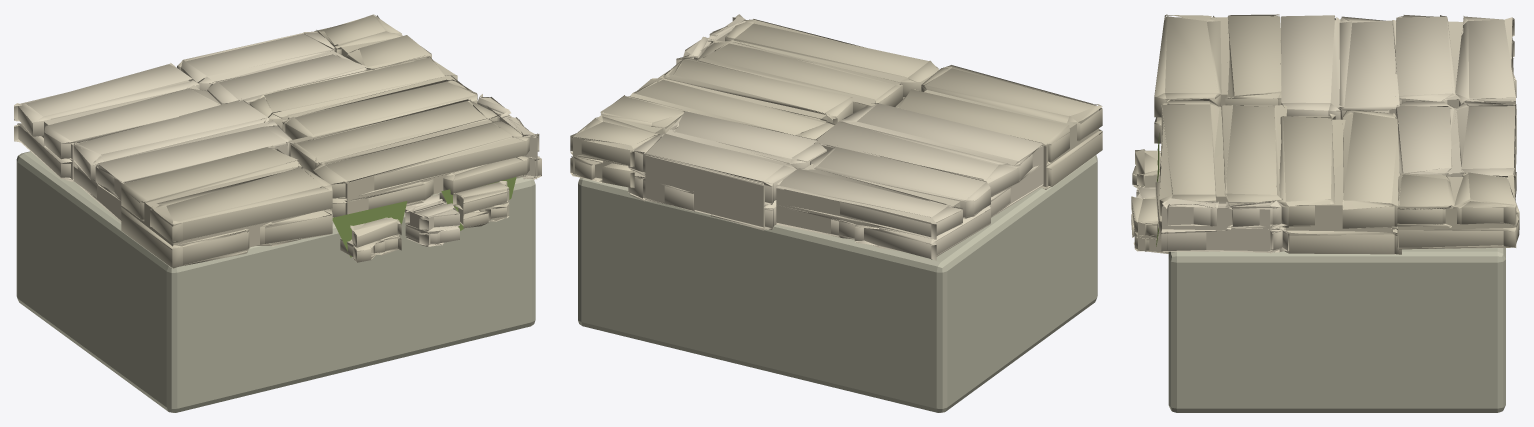
The model's file is bridge-03.glb.
The picture shows the model from 3 angles, left to right: view 1: azimuth 30°, elevation 25°; view 2: azimuth 150°, elevation 25°; view 3: azimuth 270°, elevation 25°; orthographic projection. The views are drawn at different scales.
Parts seen in each view (by area): view 1: Continuous arch foundation.002, CC0 worn paving.014, CC0 worn paving.015, CC0 worn paving.017, CC0 worn paving.019, CC0 worn paving.018, CC0 worn paving.020, CC0 worn paving.021, CC0 worn paving.023, CC0 worn paving.022, CC0 worn paving.024, CC0 worn paving.016 (+1 smaller); view 2: Continuous arch foundation.002, CC0 worn paving.019, CC0 worn paving.020, CC0 worn paving.017, CC0 worn paving.014, CC0 worn paving.015, CC0 worn paving.018, CC0 worn paving.021, CC0 worn paving.016; view 3: Continuous arch foundation.002, CC0 worn paving.018, CC0 worn paving.015, CC0 worn paving.017, CC0 worn paving.014, CC0 worn paving.019, CC0 worn paving.021, CC0 worn paving.020, CC0 worn paving.016, CC0 worn paving.022, CC0 worn paving.024.
Part boxes in pixels (<box>): Continuous arch foundation.002: <box>16,151,535,412</box>; CC0 worn paving.014: <box>121,145,332,268</box>; CC0 worn paving.015: <box>286,99,530,217</box>; CC0 worn paving.017: <box>73,100,293,222</box>; CC0 worn paving.019: <box>14,63,220,181</box>; CC0 worn paving.018: <box>249,56,477,140</box>; CC0 worn paving.020: <box>177,31,366,111</box>; CC0 worn paving.021: <box>314,14,431,70</box>; CC0 worn paving.023: <box>405,193,459,247</box>; CC0 worn paving.022: <box>439,181,509,228</box>; CC0 worn paving.024: <box>340,217,401,262</box>; CC0 worn paving.016: <box>477,94,541,179</box>; Continuous arch foundation.002: <box>578,155,1097,412</box>; CC0 worn paving.019: <box>776,146,990,260</box>; CC0 worn paving.020: <box>628,111,826,230</box>; CC0 worn paving.017: <box>814,103,1043,217</box>; CC0 worn paving.014: <box>893,65,1102,189</box>; CC0 worn paving.015: <box>696,19,938,112</box>; CC0 worn paving.018: <box>630,57,855,139</box>; CC0 worn paving.021: <box>570,95,684,188</box>; CC0 worn paving.016: <box>676,14,745,64</box>; Continuous arch foundation.002: <box>1168,248,1505,412</box>; CC0 worn paving.018: <box>1275,110,1401,254</box>; CC0 worn paving.015: <box>1155,99,1287,236</box>; CC0 worn paving.017: <box>1281,15,1399,119</box>; CC0 worn paving.014: <box>1154,14,1281,143</box>; CC0 worn paving.019: <box>1395,15,1516,108</box>; CC0 worn paving.021: <box>1392,172,1519,249</box>; CC0 worn paving.020: <box>1395,101,1516,198</box>; CC0 worn paving.016: <box>1161,198,1289,253</box>; CC0 worn paving.022: <box>1131,196,1168,253</box>; CC0 worn paving.024: <box>1132,149,1160,191</box>.
Size of the model in its own units: 3 by 1.53 by 2.56.
